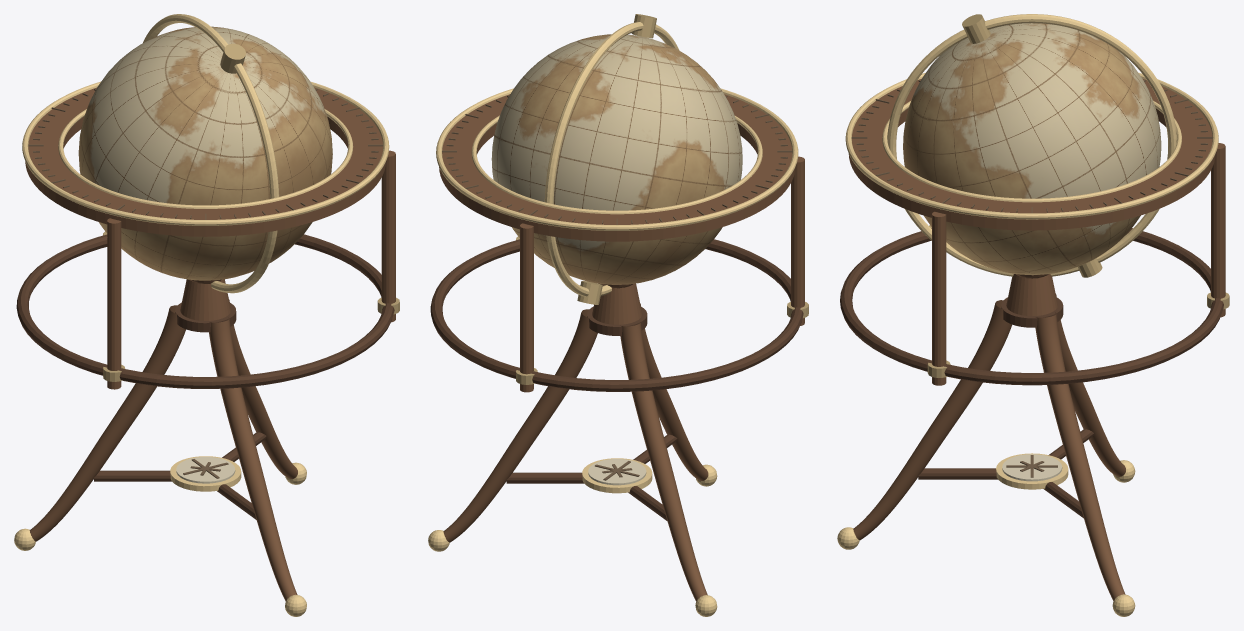
Rendered from lib_globe.glb.
The picture shows the model from 3 angles, left to right: view 1: azimuth 30°, elevation 25°; view 2: azimuth 150°, elevation 25°; view 3: azimuth 270°, elevation 25°; orthographic projection. The views are drawn at different scales.
Visible parts, largest first — view 1: lib_globe; view 2: lib_globe; view 3: lib_globe.
Part boxes in pixels (left/top/right/bottom): lib_globe: left=14, top=14, right=399, bottom=616; lib_globe: left=428, top=14, right=808, bottom=616; lib_globe: left=837, top=14, right=1229, bottom=616.
Size of the model in its own units: 0.744 by 1.14 by 0.759.
Materials: 7 (1 with a texture image).
